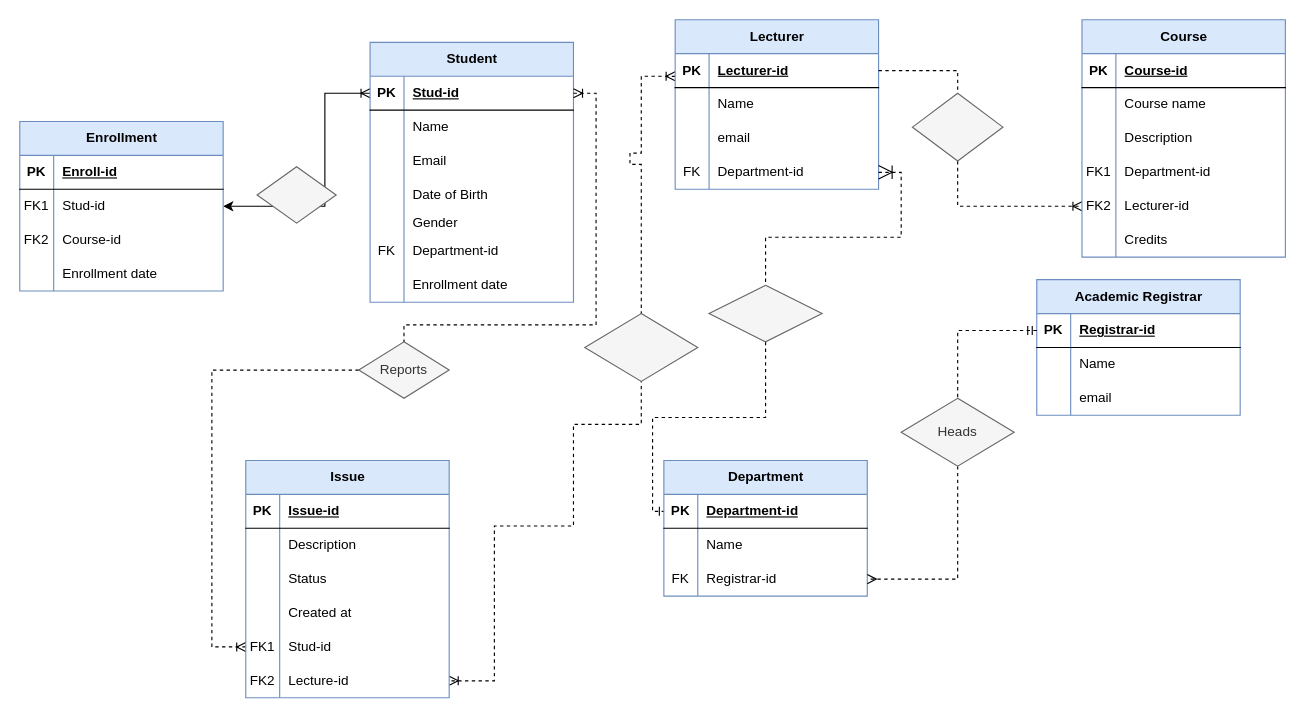
This 1305x718 diagram has some shape labels left out. The shapes that lost their labels are listed below. From the top down, each one's centre as x and y in pixels, then its label:
At (x=957, y=126): "Teaches".
At (x=296, y=194): "Enrolls".
At (x=765, y=313): "Belongs to".
At (x=641, y=346): "Addresses".
